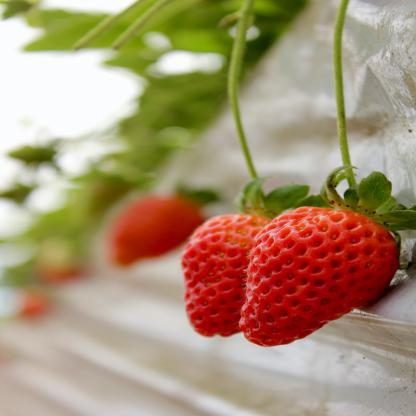strawberry: (151, 152, 403, 361)
